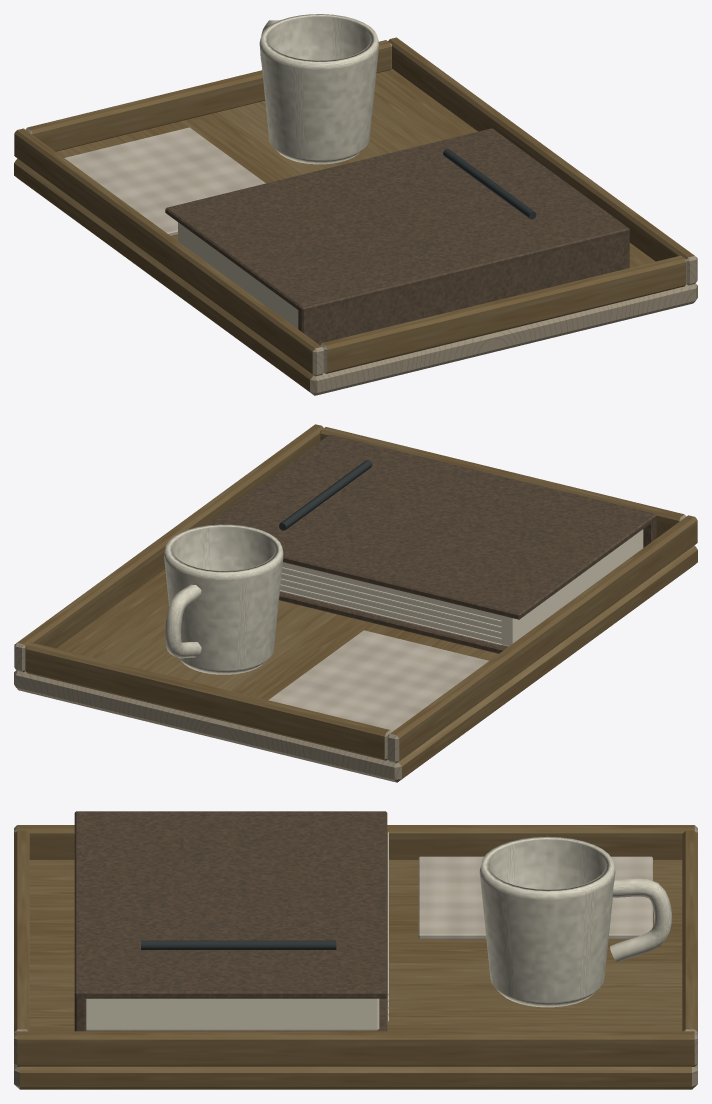
3 views of the same model, one above another, from view 1: azimuth 30°, elevation 25°; view 2: azimuth 150°, elevation 25°; view 3: azimuth 270°, elevation 25° (orthographic). The views are drawn at different scales.
Visible parts, largest first — view 1: Mesh_leather, Mesh_warm, Mesh_ceramic, Mesh_linen, Mesh_endgrain, Mesh_paper, Mesh_iron; view 2: Mesh_warm, Mesh_leather, Mesh_ceramic, Mesh_linen, Mesh_paper, Mesh_endgrain, Mesh_iron; view 3: Mesh_warm, Mesh_leather, Mesh_ceramic, Mesh_paper, Mesh_linen, Mesh_iron, Mesh_endgrain.
Part boxes in pixels (bbox=[...]): Mesh_leather: bbox=[165, 128, 629, 344]; Mesh_warm: bbox=[14, 37, 694, 394]; Mesh_ceramic: bbox=[259, 14, 378, 164]; Mesh_linen: bbox=[64, 127, 265, 236]; Mesh_endgrain: bbox=[15, 43, 697, 395]; Mesh_paper: bbox=[178, 222, 298, 328]; Mesh_iron: bbox=[443, 149, 536, 219]; Mesh_warm: bbox=[17, 424, 697, 781]; Mesh_leather: bbox=[205, 434, 656, 653]; Mesh_ceramic: bbox=[164, 524, 283, 674]; Mesh_linen: bbox=[268, 630, 488, 731]; Mesh_paper: bbox=[280, 529, 643, 646]; Mesh_endgrain: bbox=[14, 427, 696, 782]; Mesh_iron: bbox=[279, 460, 372, 530]; Mesh_warm: bbox=[14, 825, 697, 1089]; Mesh_leather: bbox=[74, 811, 387, 1031]; Mesh_ceramic: bbox=[479, 836, 672, 1007]; Mesh_paper: bbox=[86, 832, 388, 1030]; Mesh_linen: bbox=[418, 856, 652, 939]; Mesh_iron: bbox=[141, 940, 336, 949]; Mesh_endgrain: bbox=[14, 825, 697, 1089].
Bounding box in the file's own units: 0.26 × 0.0827 × 0.35.
7 materials, 5 textured.
